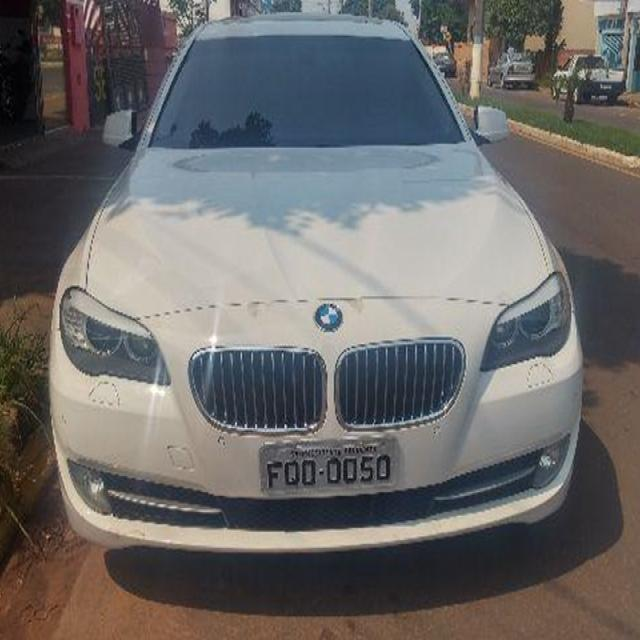Placa: (255, 429, 403, 500)
